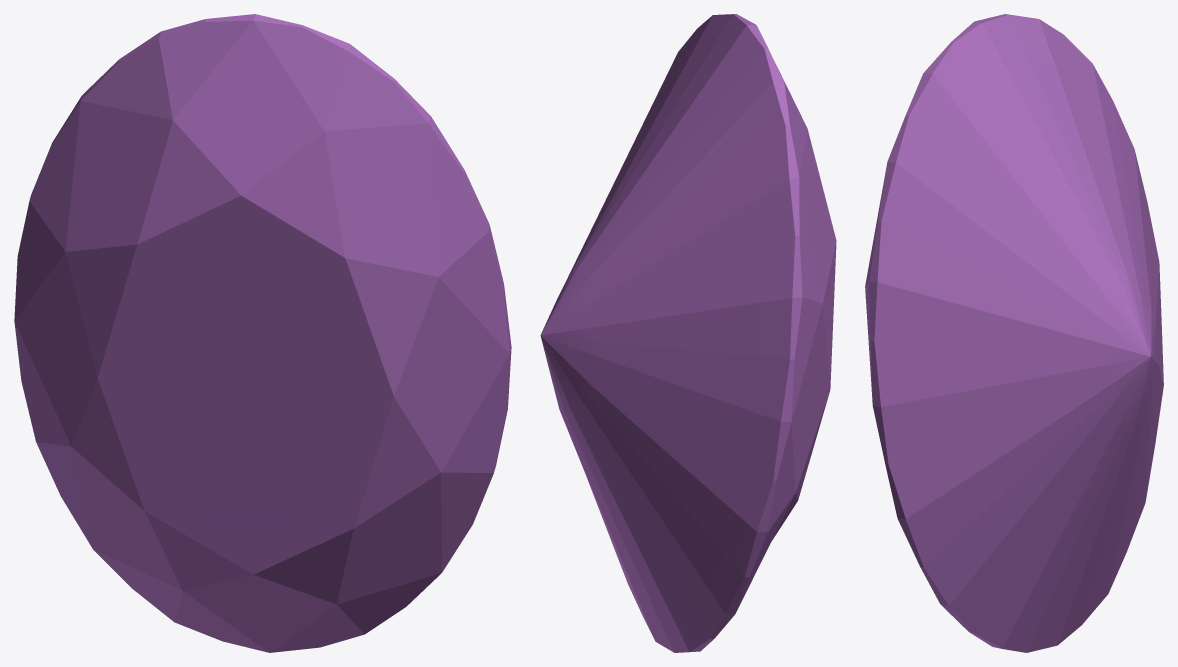
File: BL3_8shapes_Oval_Classic_Stone.001 2.glb
The picture shows the model from 3 angles, left to right: view 1: azimuth 30°, elevation 25°; view 2: azimuth 150°, elevation 25°; view 3: azimuth 270°, elevation 25°; orthographic projection. The views are drawn at different scales.
Parts seen in each view (by area): view 1: BL3_8shapes_Oval_Classic_Stone.001; view 2: BL3_8shapes_Oval_Classic_Stone.001; view 3: BL3_8shapes_Oval_Classic_Stone.001.
Part boxes in pixels (bbox=[...]): BL3_8shapes_Oval_Classic_Stone.001: bbox=[14, 14, 511, 652]; BL3_8shapes_Oval_Classic_Stone.001: bbox=[540, 14, 836, 652]; BL3_8shapes_Oval_Classic_Stone.001: bbox=[865, 14, 1163, 652].
Bounding box in the file's own units: 0.3289 × 0.6193 × 0.2803.
